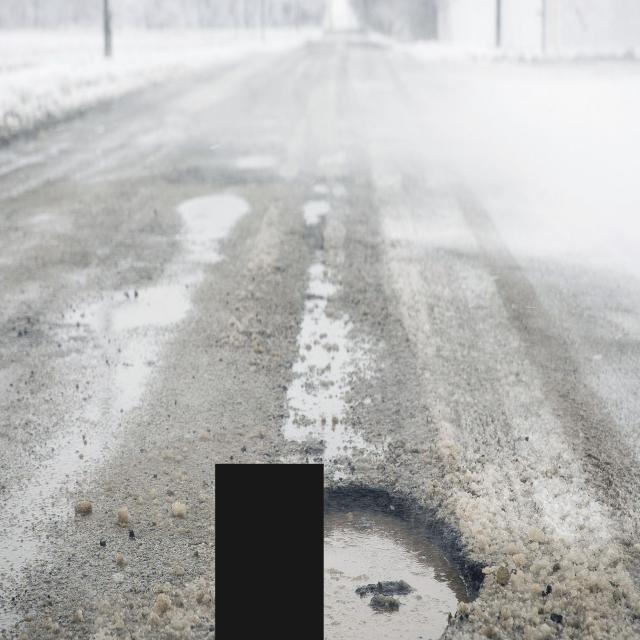road-pothole: (322, 476, 486, 640)
